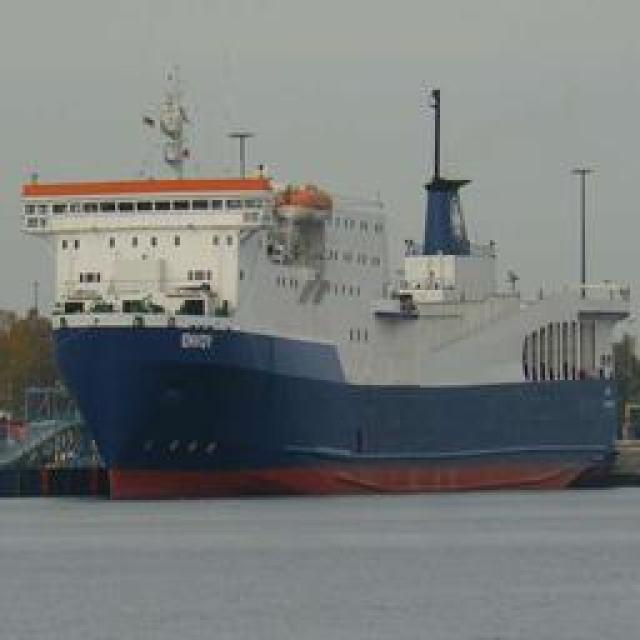CIV_Ship: (39, 86, 602, 479)
